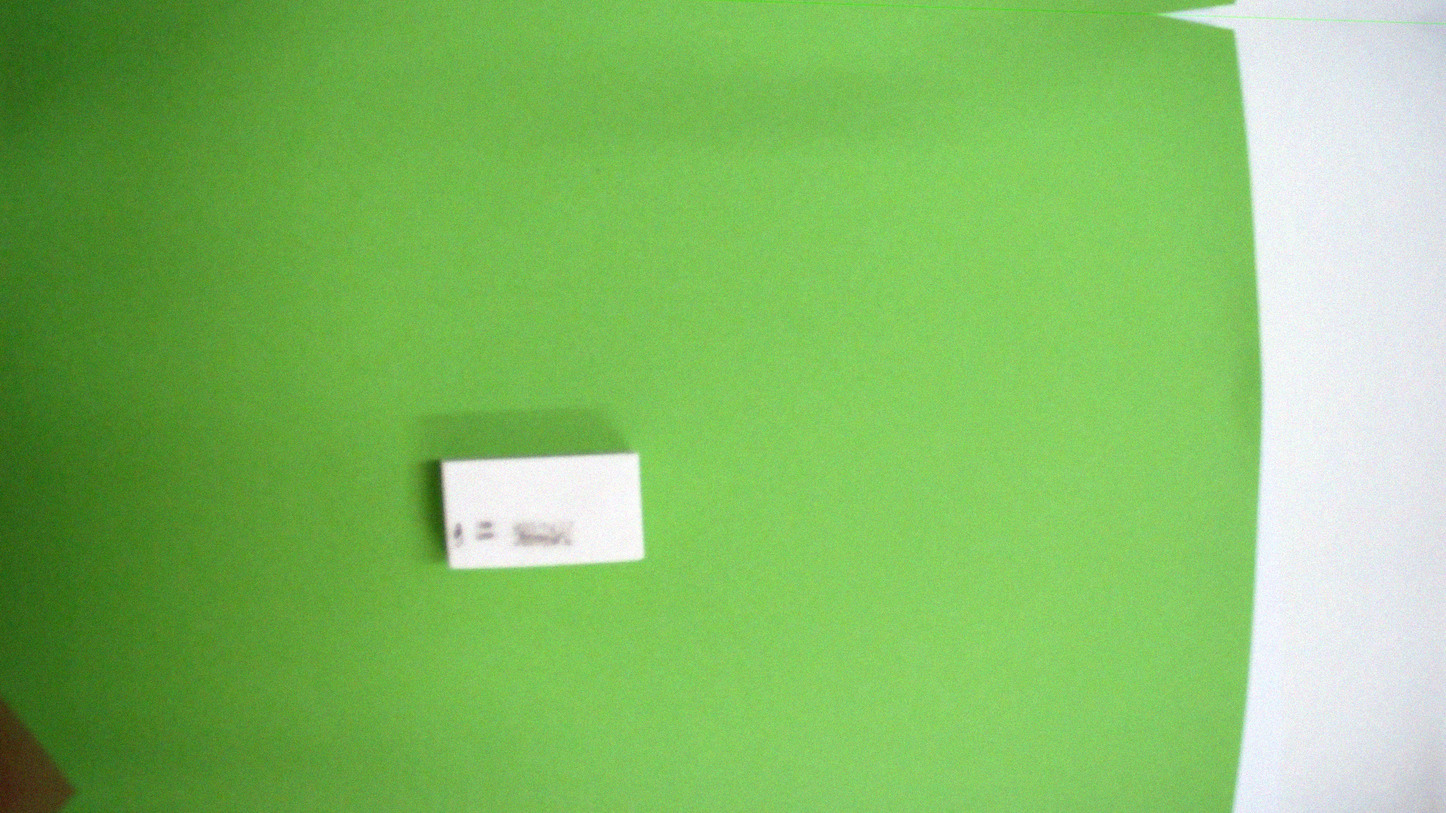gom: (434, 435, 648, 587)
